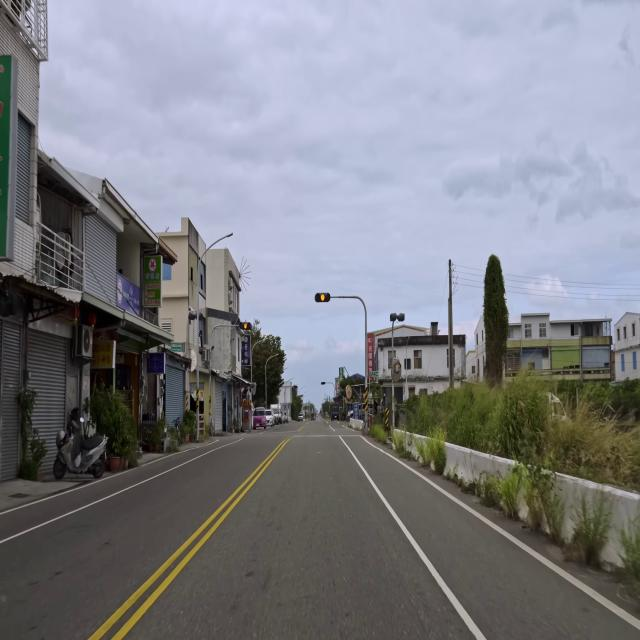yellow light: (315, 293, 331, 302), (239, 322, 252, 330)
